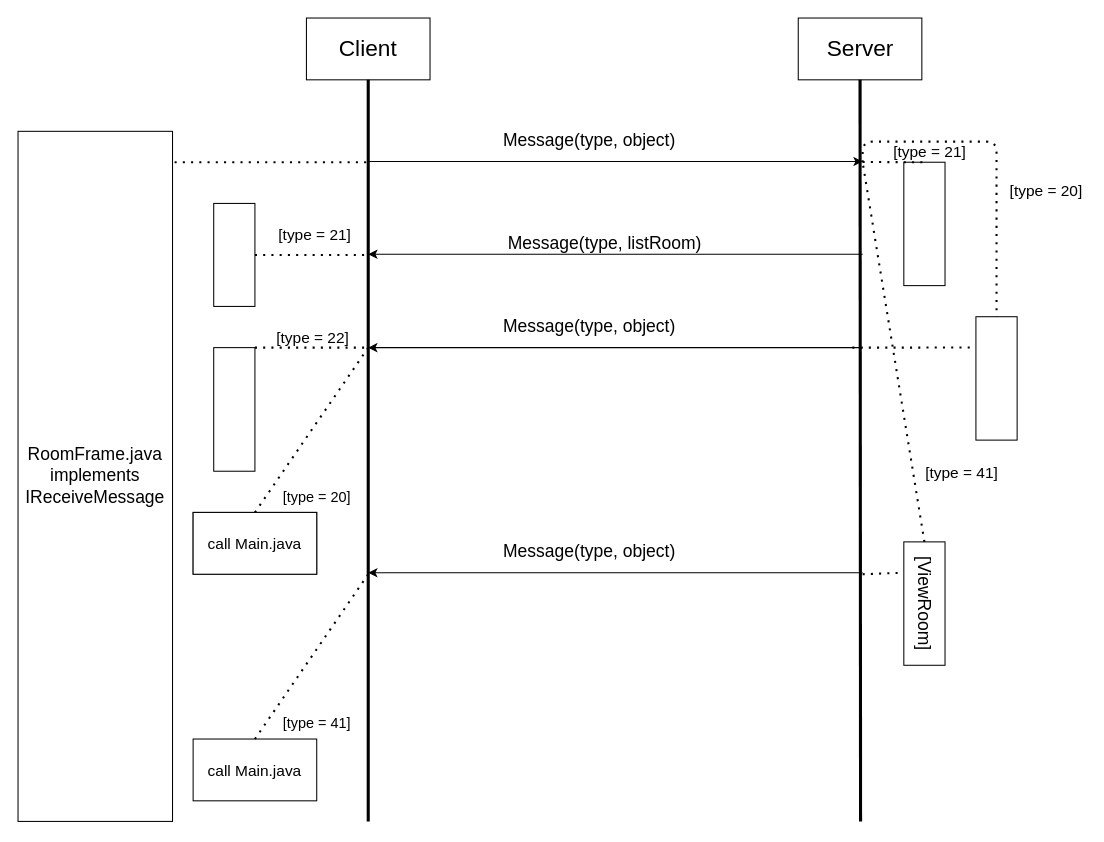
Some shapes in this 1104 by 842 pixel diagram are drawn without their labels. The centre of each missing label's shape, as x and y in pixels:
"[GetAllRoom]" goes at pixel 924 223.
"[JoinRoom]" goes at pixel 996 378.
"[Room is full]" goes at pixel 234 409.
"listRoom" goes at pixel 234 254.
